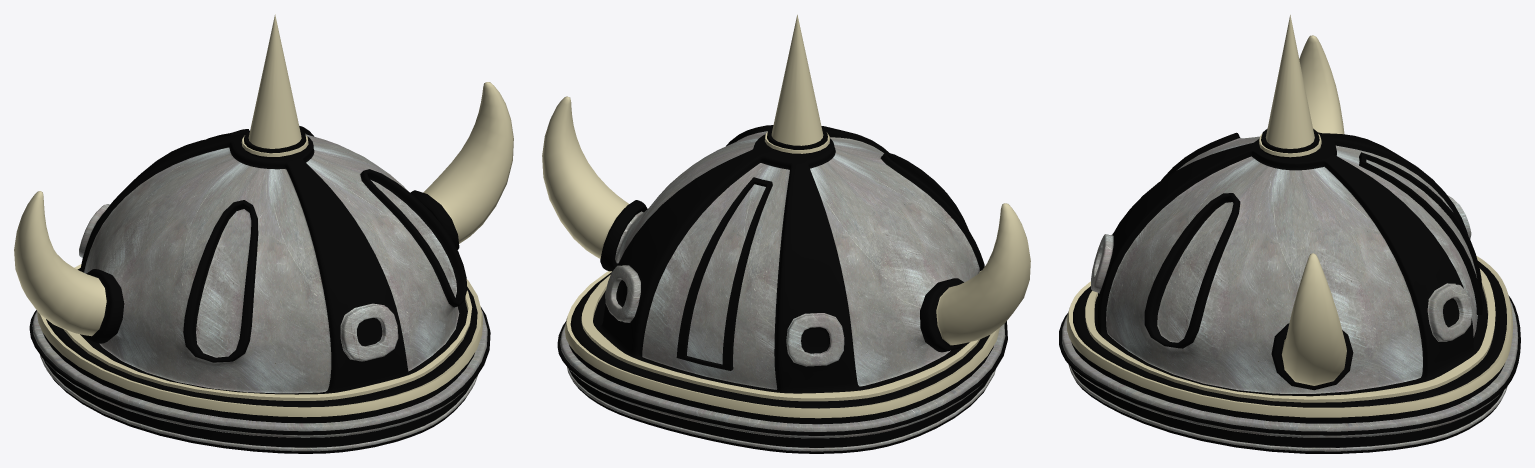
The model's file is FbxHelmet.fbx.
3 renders of one model, left to right at view 1: azimuth 30°, elevation 25°; view 2: azimuth 150°, elevation 25°; view 3: azimuth 270°, elevation 25°, orthographic. The views are drawn at different scales.
Parts seen in each view (by area): view 1: HELMET; view 2: HELMET; view 3: HELMET.
Boxes of the visible parts, bbox=[...] form: HELMET: bbox=[14, 14, 513, 453]; HELMET: bbox=[542, 14, 1030, 453]; HELMET: bbox=[1059, 15, 1520, 453].
Bounding box in the file's own units: 4.5 × 3.08 × 3.68.
3 materials, 1 textured.
